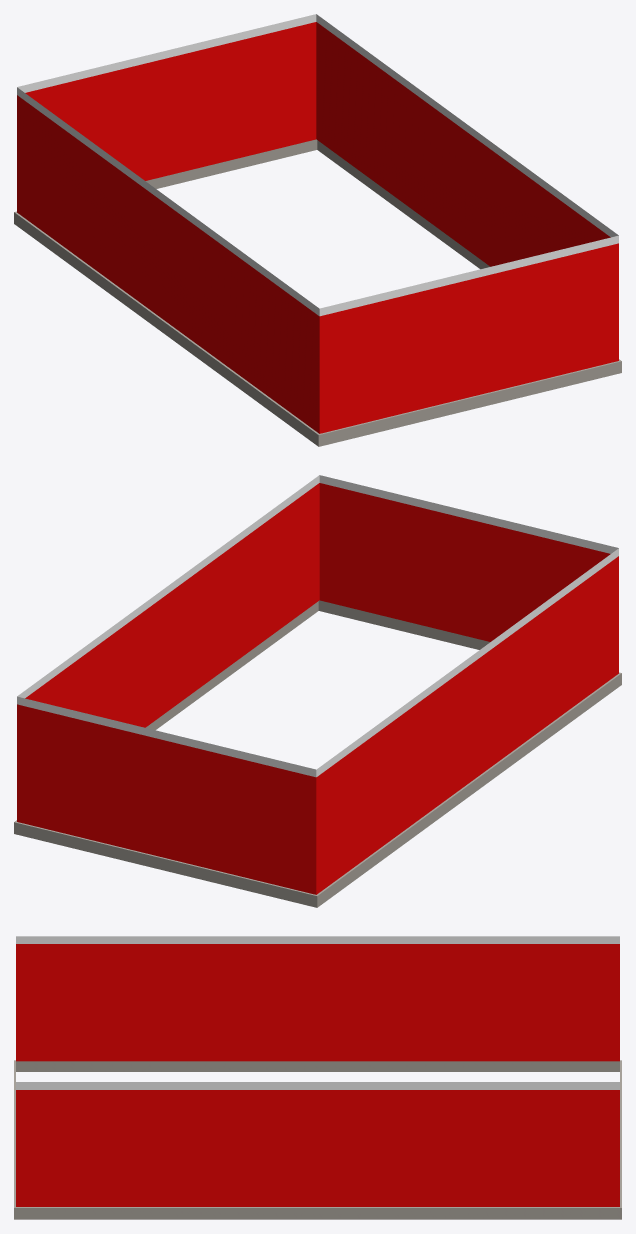
Rendered from ForeFloor.fbx.
3 renders of one model, top to bottom at view 1: azimuth 30°, elevation 25°; view 2: azimuth 150°, elevation 25°; view 3: azimuth 270°, elevation 25°, orthographic.
Parts seen in each view (by area): view 1: ForeFloor_LOD0; view 2: ForeFloor_LOD0; view 3: ForeFloor_LOD0.
Boxes of the visible parts, x1=… form: ForeFloor_LOD0: x1=14, y1=14, x2=621, y2=446; ForeFloor_LOD0: x1=14, y1=475, x2=621, y2=907; ForeFloor_LOD0: x1=14, y1=936, x2=621, y2=1219.
Size of what is drawn, in the model's own units: 1620 by 700 by 2820.
